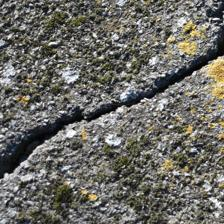Crack: (3, 20, 219, 157)
